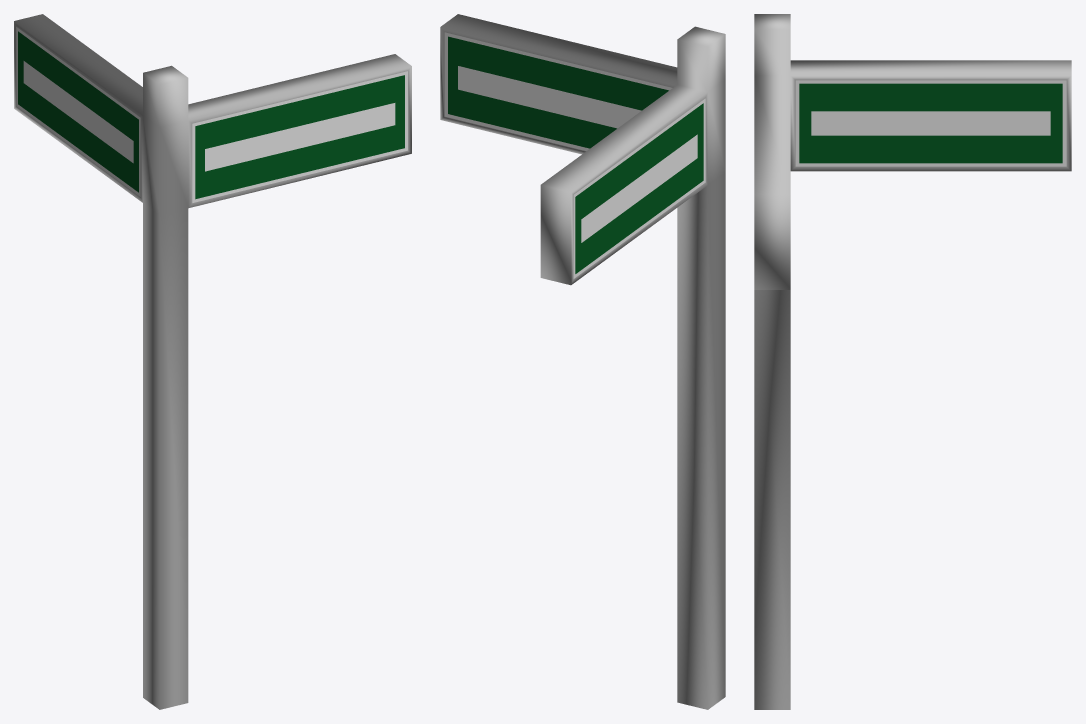
Rendered from signSign.fbx.
3 renders of one model, left to right at view 1: azimuth 30°, elevation 25°; view 2: azimuth 150°, elevation 25°; view 3: azimuth 270°, elevation 25°, orthographic. The views are drawn at different scales.
Parts seen in each view (by area): view 1: StreetSign; view 2: StreetSign; view 3: StreetSign.
Part boxes in pixels (box(x1,y1,x2,y2)): StreetSign: box(14, 14, 411, 709); StreetSign: box(440, 14, 725, 709); StreetSign: box(754, 14, 1071, 709).
Bounding box in the file's own units: 201 × 477 × 201.
